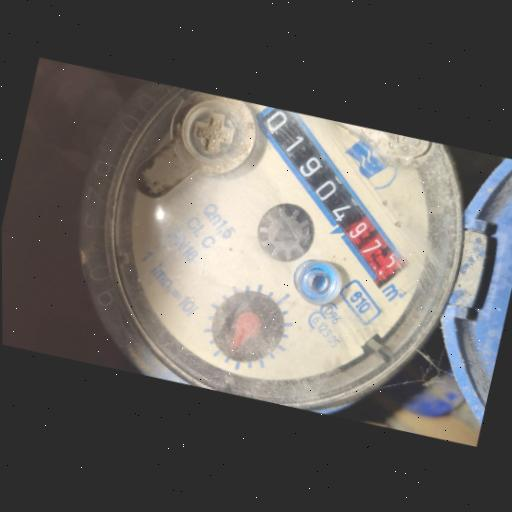0: (307, 168, 349, 211), (257, 105, 298, 142)
1: (274, 122, 315, 164)
4: (324, 189, 366, 232)
5: (362, 242, 409, 291)
7: (354, 229, 389, 265)
9: (291, 144, 332, 187), (341, 210, 378, 249)
border_water_meter_number: (215, 101, 444, 303)
